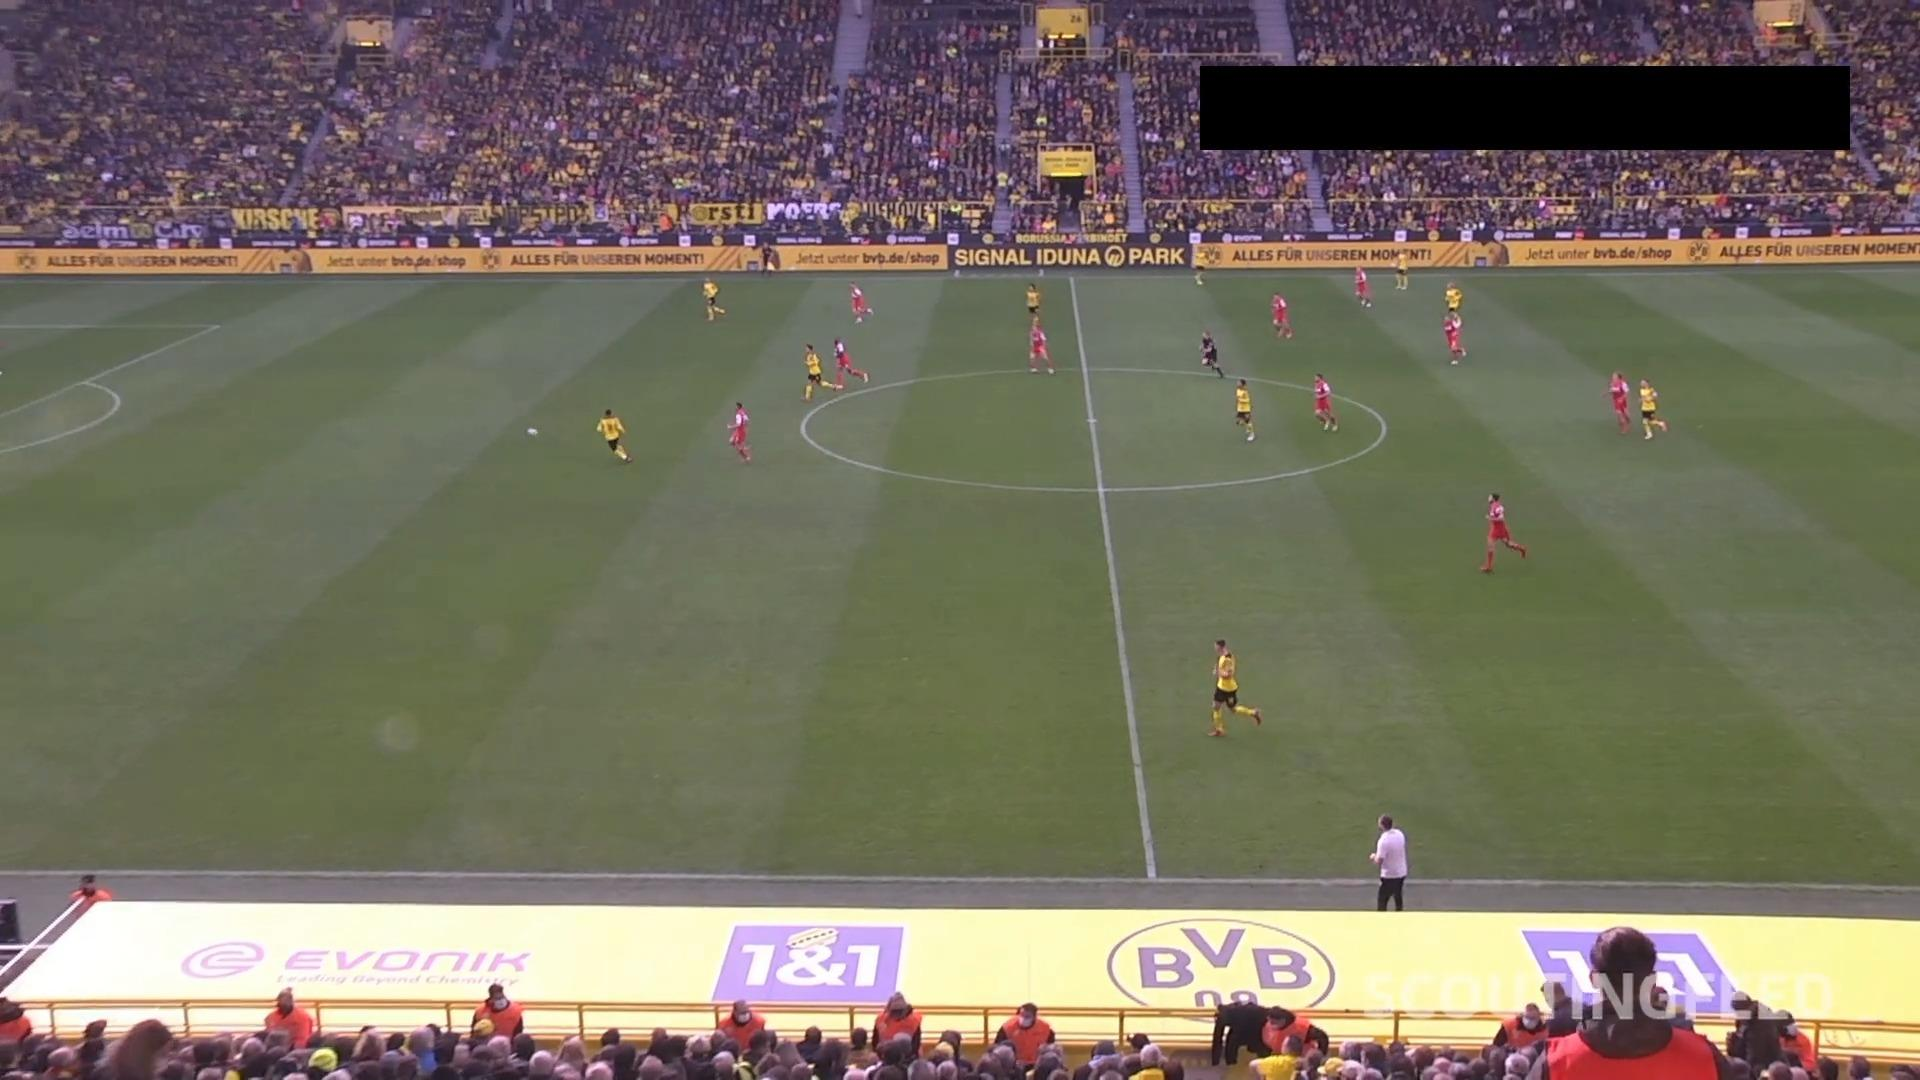ball: (526, 427, 537, 435)
coach: (1369, 813, 1408, 910)
fan: (1515, 925, 1733, 1078), (1209, 990, 1293, 1066), (1726, 991, 1781, 1075)
player: (1205, 637, 1262, 737), (1479, 492, 1526, 573), (829, 336, 868, 391), (595, 407, 630, 462), (1637, 378, 1667, 439), (726, 401, 752, 462), (1027, 318, 1055, 374), (1312, 372, 1338, 431), (1233, 377, 1256, 442), (800, 343, 825, 401), (1607, 370, 1630, 432), (1442, 309, 1465, 365), (1269, 291, 1292, 339), (701, 277, 725, 321), (848, 281, 873, 323), (1353, 263, 1372, 308), (1025, 281, 1042, 323), (1443, 280, 1463, 314), (1393, 251, 1409, 289), (1193, 260, 1205, 286)
referee: (1198, 329, 1224, 377), (758, 240, 779, 273)
